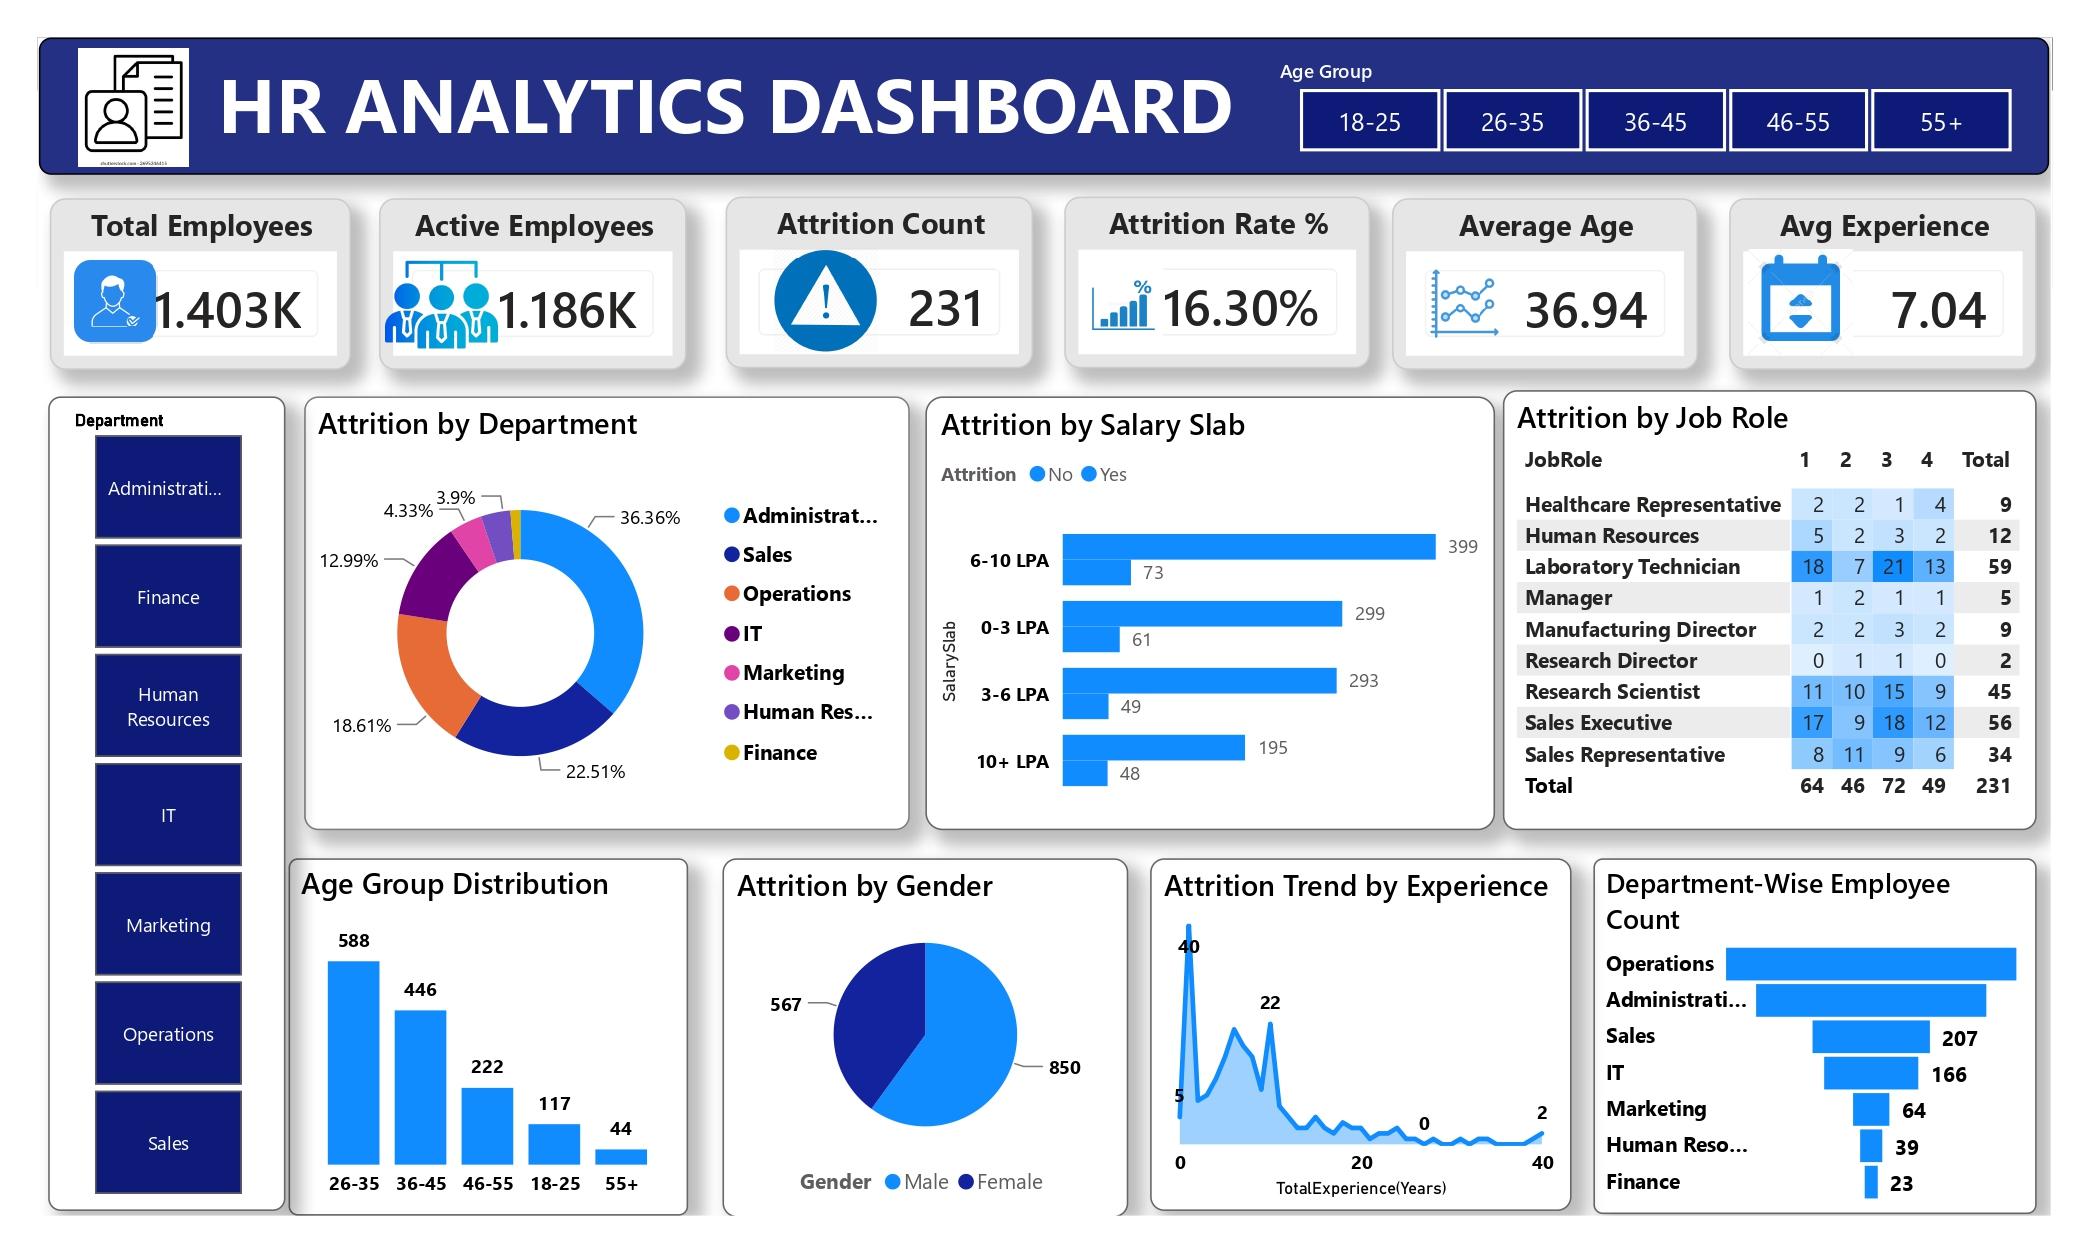

This screenshot's page, from the dashboard's own definition file:
{"tool":"powerbi","page":{"name":"Page 1","canvas":[1289,755],"ordinal":0},"visuals":[{"type":"textbox","box":[0,0,1288.3,88.3],"z":0},{"type":"image","box":[22.8,6.5,74.8,76.4],"z":1000},{"type":"cardVisual","title":"Total Employees","fields":{"Data":["Count(HR_Analytics-4.EmpID)"]},"box":[6.7,103.3,193.3,110],"z":2000},{"type":"cardVisual","title":"Active Employees","fields":{"Data":["CountNonNull(HR_Analytics-4.EmployeeCount)"]},"box":[218.3,103.3,196.7,110],"z":3000},{"type":"cardVisual","title":"Attrition Count","fields":{"Data":["Sum(HR_Analytics-4.Attrition Count)"]},"box":[440,101.7,196.7,110],"z":4000},{"type":"cardVisual","title":"Attrition Rate %","fields":{"Data":["HR_Analytics-4.Attrition rate%"]},"box":[656.7,101.7,196.7,110],"z":5000},{"type":"cardVisual","title":"Average Age","fields":{"Data":["Avg(HR_Analytics-4.Age)"]},"box":[866.7,103.3,196.7,110],"z":6000},{"type":"cardVisual","title":"Avg Experience","fields":{"Data":["Avg(HR_Analytics-4.YearsatCompany)"]},"box":[1083.3,103.3,196.7,110],"z":7000},{"type":"donutChart","title":"Attrition by Department","fields":{"Category":["HR_Analytics-4.Department"],"Y":["Sum(HR_Analytics-4.Attrition Count)"]},"box":[170,230,388.3,278.3],"z":8000},{"type":"clusteredBarChart","title":"Attrition by Salary Slab","fields":{"Category":["HR_Analytics-4.SalarySlab"],"Y":["CountNonNull(HR_Analytics-4.EmpID)"],"Series":["HR_Analytics-4.Attrition"]},"box":[568.3,230,365,278.3],"z":9000},{"type":"funnel","title":"Department-Wise Employee Count ","fields":{"Category":["HR_Analytics-4.Department"],"Y":["CountNonNull(HR_Analytics-4.EmpID)"]},"box":[996,526,284,228],"z":10000},{"type":"pieChart","title":"Attrition by Gender","fields":{"Category":["HR_Analytics-4.Gender"],"Y":["CountNonNull(HR_Analytics-4.Attrition)"]},"box":[438,526,260,230],"z":11000},{"type":"columnChart","title":" Age Group Distribution","fields":{"Category":["HR_Analytics-4.AgeGroup"],"Y":["Sum(HR_Analytics-4.EmployeeCount)"]},"box":[160.3,525.9,255.2,229.3],"z":12000},{"type":"pivotTable","title":"Attrition by Job Role","fields":{"Rows":["HR_Analytics-4.JobRole"],"Values":["Sum(HR_Analytics-4.Attrition Count)"],"Columns":["HR_Analytics-4.JobSatisfaction"]},"box":[938,226,342,282],"z":13000},{"type":"areaChart","title":"Attrition Trend by Experience","fields":{"Category":["HR_Analytics-4.TotalExperience(Years)"],"Y":["Sum(HR_Analytics-4.Attrition Count)"]},"box":[712,526,270,226],"z":14000},{"type":"slicer","fields":{"Values":["HR_Analytics-4.Department"]},"box":[6,230,152,522],"z":15000},{"type":"slicer","fields":{"Values":["HR_Analytics-4.AgeGroup"]},"box":[781.7,8.3,506.7,71.7],"z":16000},{"type":"image","box":[218.3,135,80,71.7],"z":17000},{"type":"image","box":[22,108,54,122],"z":18000},{"type":"image","box":[890,131.7,46.7,76.7],"z":19000},{"type":"image","box":[470,126.7,68.3,81.7],"z":20000},{"type":"image","box":[1095,125,66.7,88.3],"z":21000},{"type":"image","box":[670,128,50,84],"z":22000}]}

Visuals, with their boxes on the page's 1289x755 design canvas (x1, y1, x2, y2). These are canvas units, not pixel positions in the 2090x1254 screenshot, which may show the page scaled, cropped or inside an application window:
textbox: Rect(0, 0, 1288, 88)
image: Rect(23, 6, 98, 83)
"Total Employees" cardVisual: Rect(7, 103, 200, 213)
"Active Employees" cardVisual: Rect(218, 103, 415, 213)
"Attrition Count" cardVisual: Rect(440, 102, 637, 212)
"Attrition Rate %" cardVisual: Rect(657, 102, 853, 212)
"Average Age" cardVisual: Rect(867, 103, 1063, 213)
"Avg Experience" cardVisual: Rect(1083, 103, 1280, 213)
"Attrition by Department" donutChart: Rect(170, 230, 558, 508)
"Attrition by Salary Slab" clusteredBarChart: Rect(568, 230, 933, 508)
"Department-Wise Employee Count " funnel: Rect(996, 526, 1280, 754)
"Attrition by Gender" pieChart: Rect(438, 526, 698, 756)
" Age Group Distribution" columnChart: Rect(160, 526, 416, 755)
"Attrition by Job Role" pivotTable: Rect(938, 226, 1280, 508)
"Attrition Trend by Experience" areaChart: Rect(712, 526, 982, 752)
slicer - HR_Analytics-4.Department: Rect(6, 230, 158, 752)
slicer - HR_Analytics-4.AgeGroup: Rect(782, 8, 1288, 80)
image: Rect(218, 135, 298, 207)
image: Rect(22, 108, 76, 230)
image: Rect(890, 132, 937, 208)
image: Rect(470, 127, 538, 208)
image: Rect(1095, 125, 1162, 213)
image: Rect(670, 128, 720, 212)
